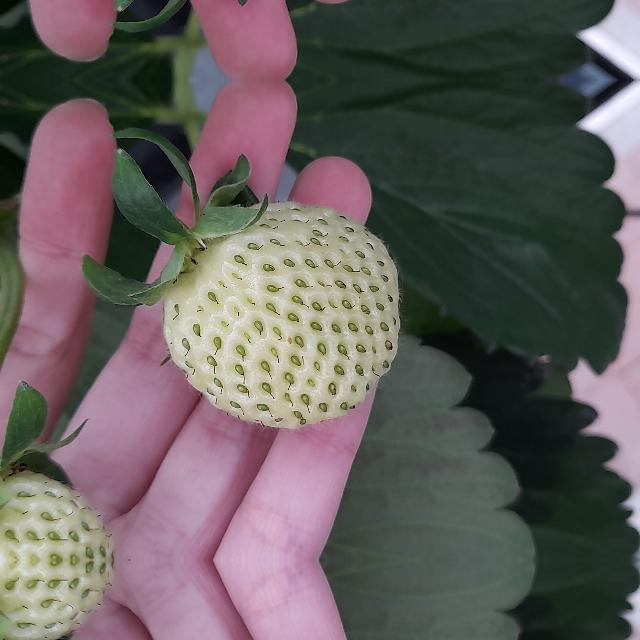Health_25: (162, 201, 400, 429)
